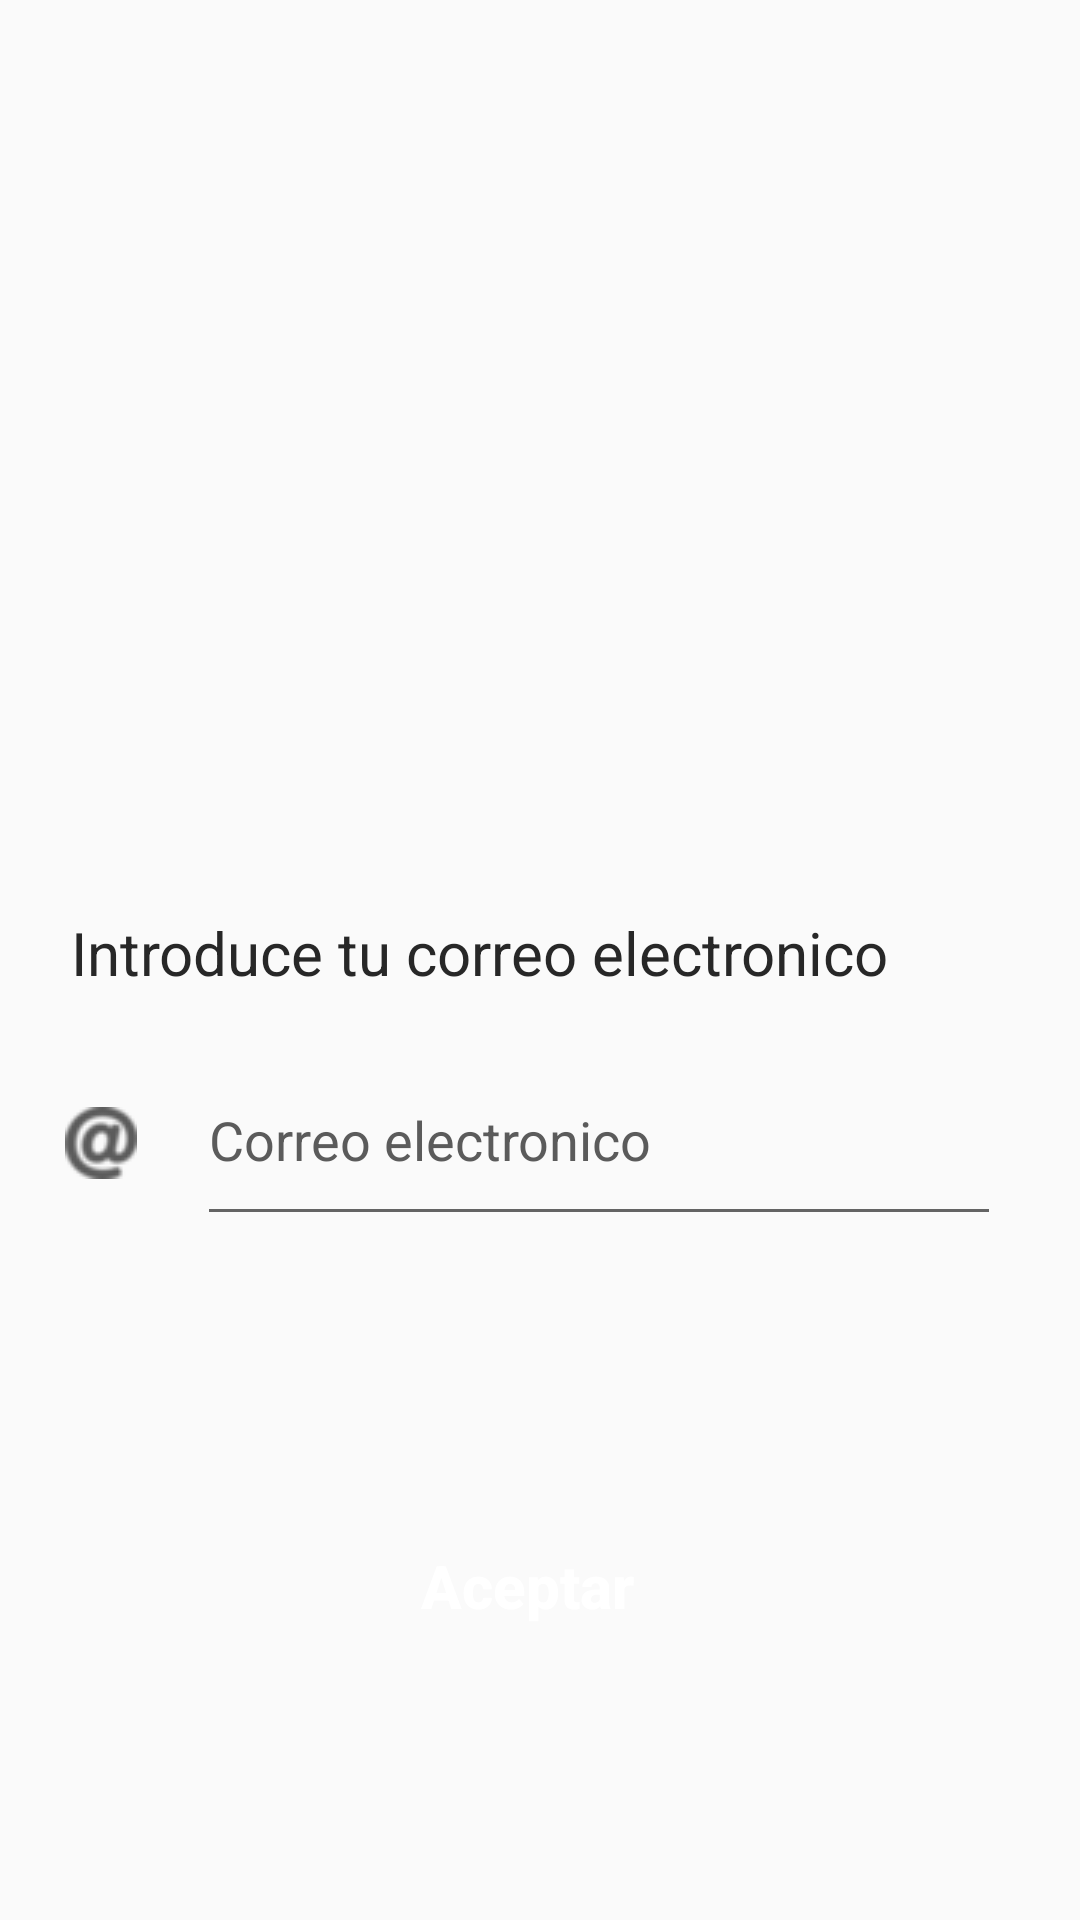

Icons on this 1080px x 1920px Android screen, each with the point to tap as (x,y):
arroba: (101,1143)
